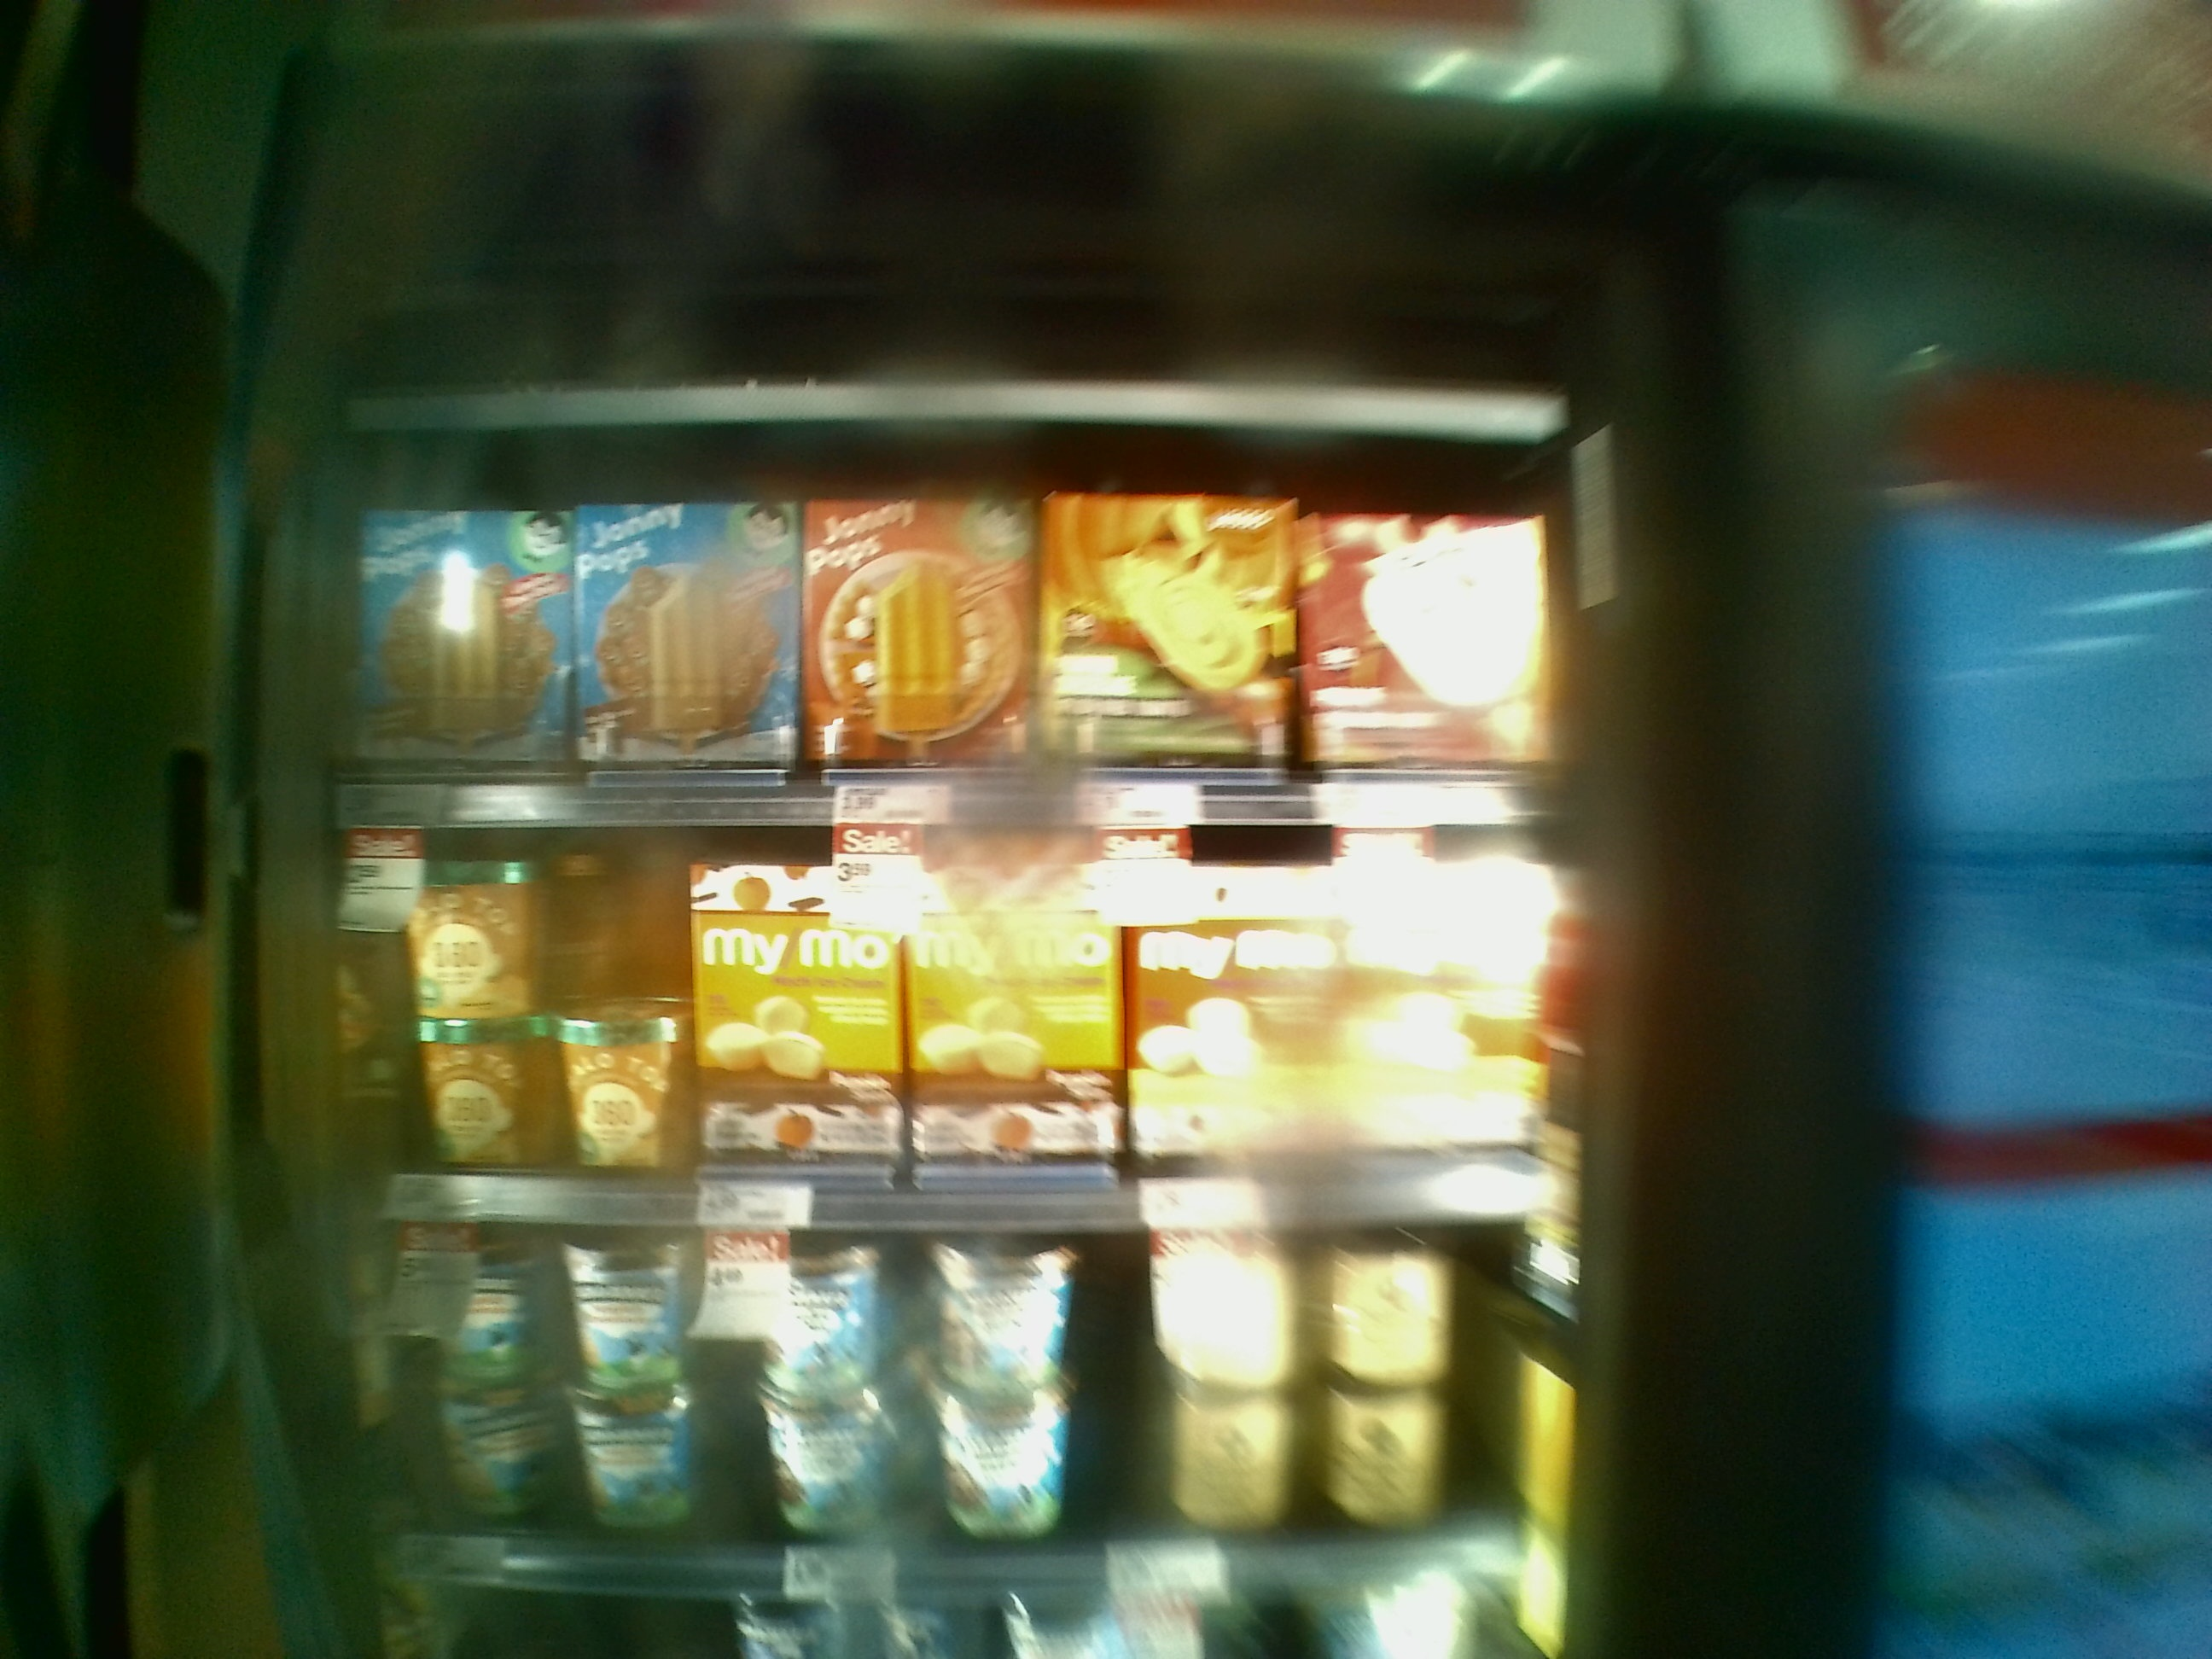shelf: (314, 779, 1566, 1236), (324, 411, 1569, 835)
